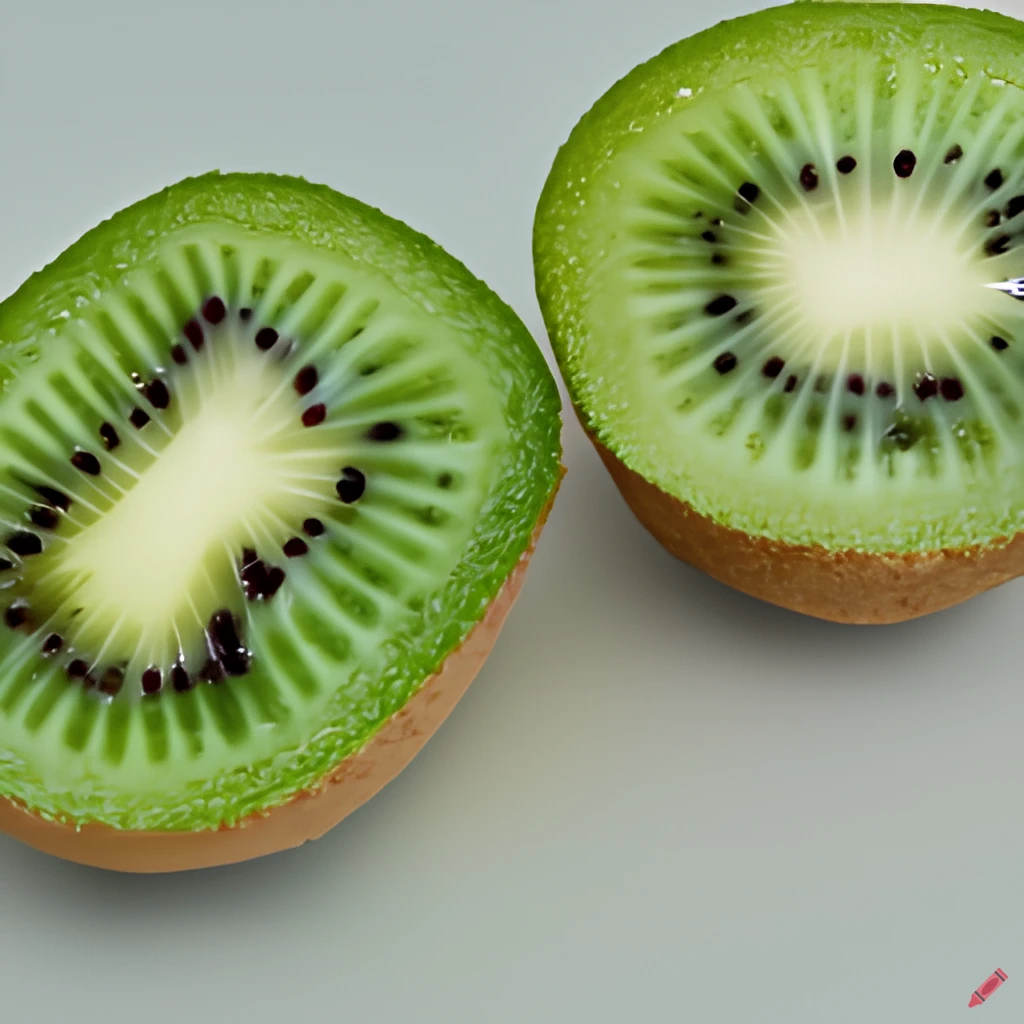Kiwi: (523, 0, 1024, 648)
